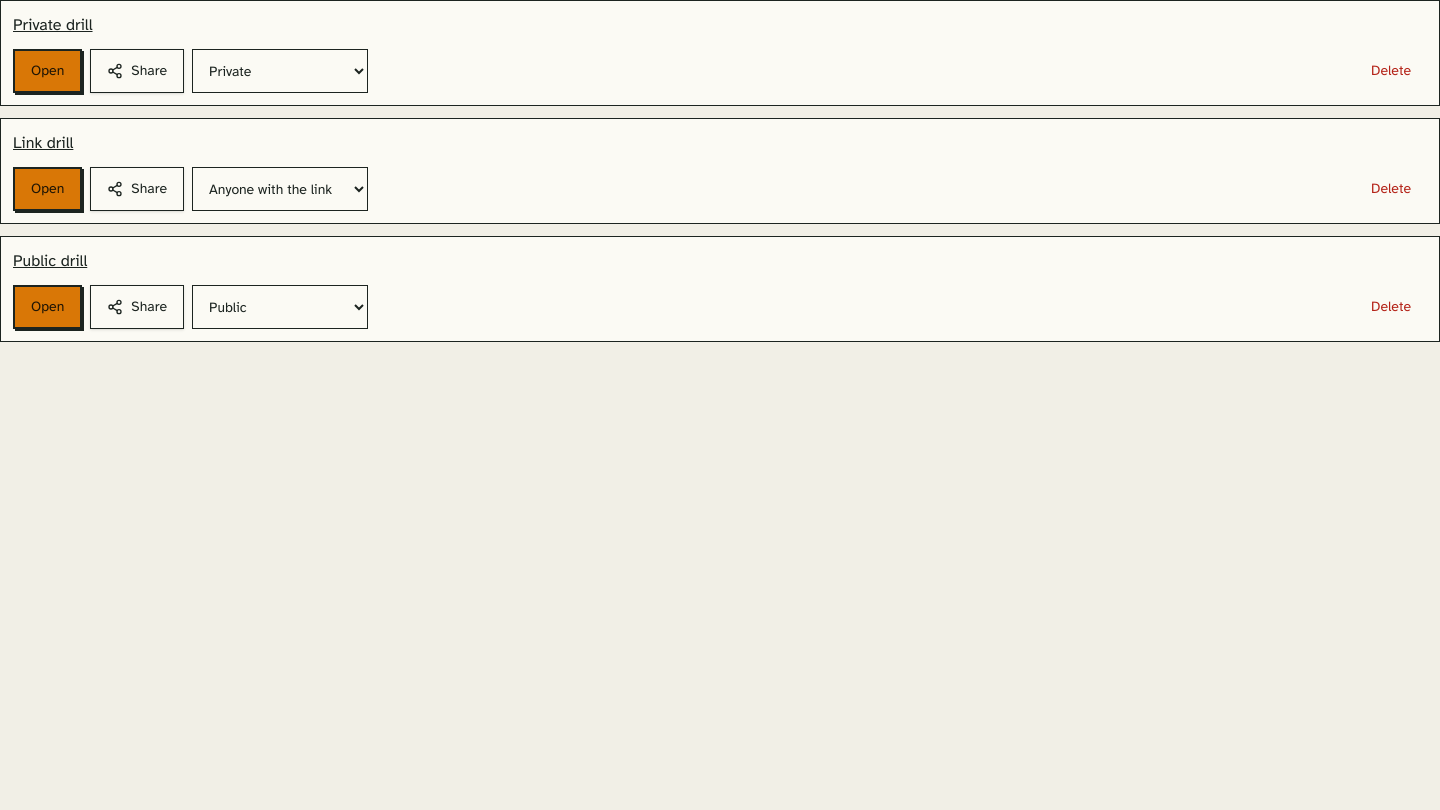
MyPracticesList share action › asks first before deleting, and Cancel leaves the Practice
Expected: the link "Private drill" is shown, [13,15,92,35]
Step 1. Click the button with aria-label "Delete Private drill" → (1391, 71), box [1355,49,1427,93]
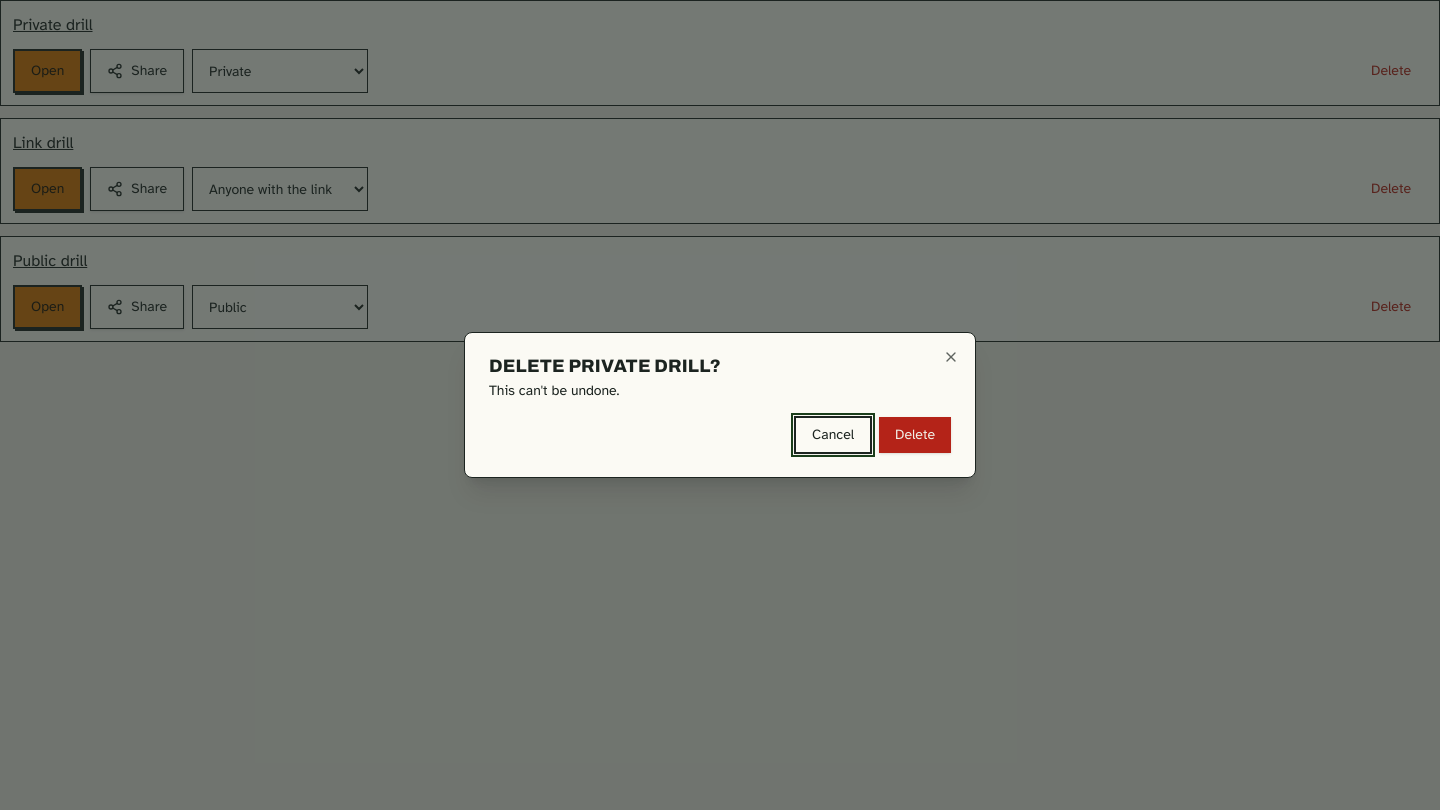
Result: the dialog is shown at [464,332,976,478]
Result: the heading "Delete Private drill?" is shown at [489,356,721,376]
Result: the text "This can't be undone." is shown at [489,382,620,399]
Step 2. Click the button "Cancel" → (833, 435), box [795,417,871,453]
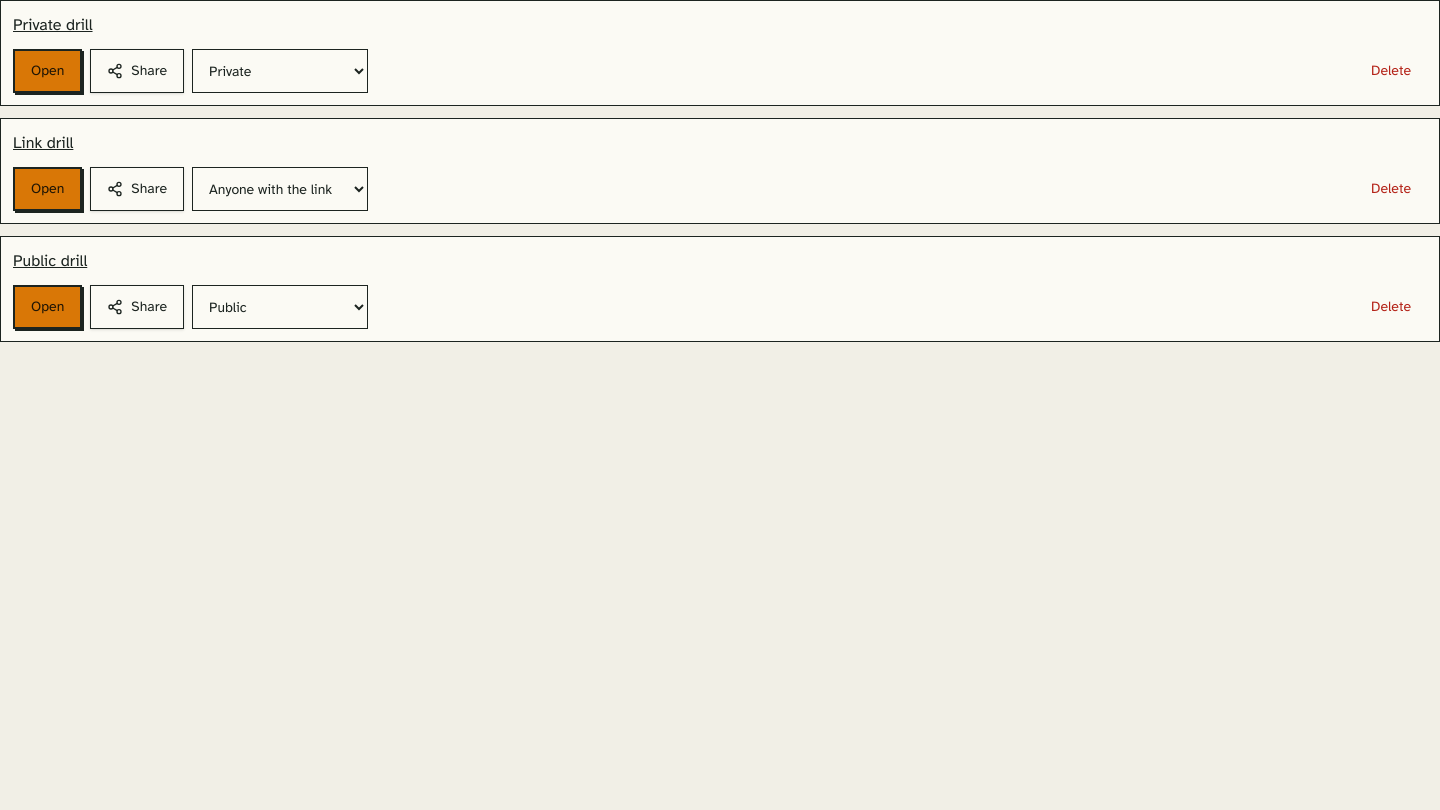
Expected: the link "Private drill" is shown, [13,15,92,35]
Result: the dialog is gone
